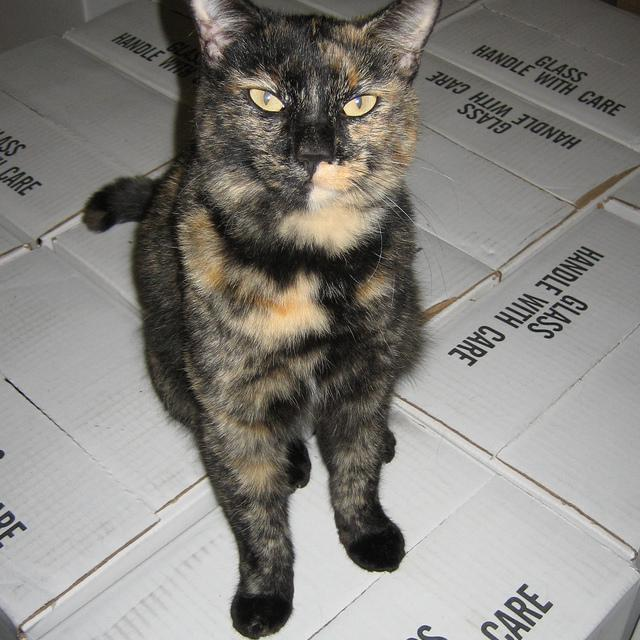animals: (195, 0, 439, 165)
